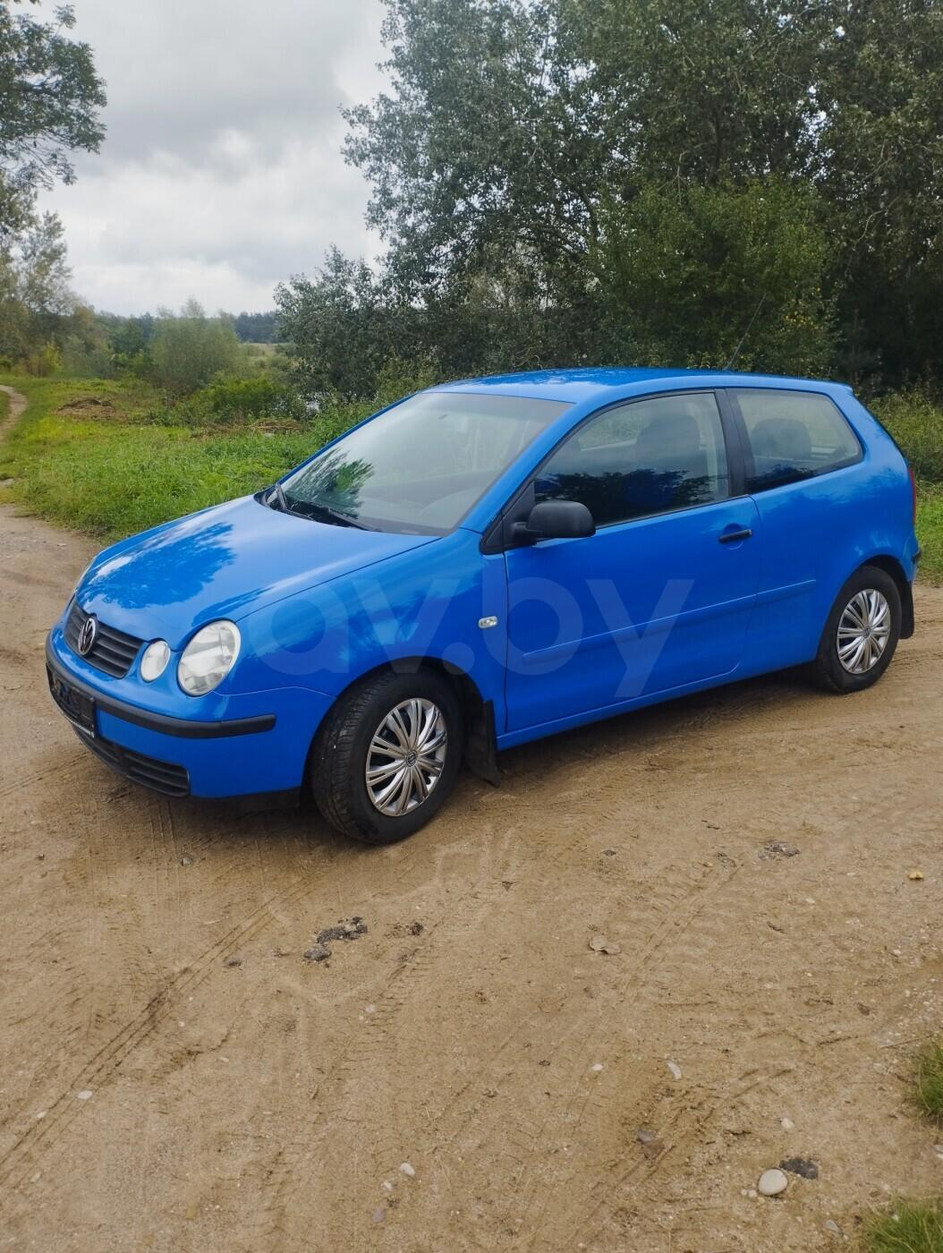Polo_2001-2005: (42, 354, 914, 864)
